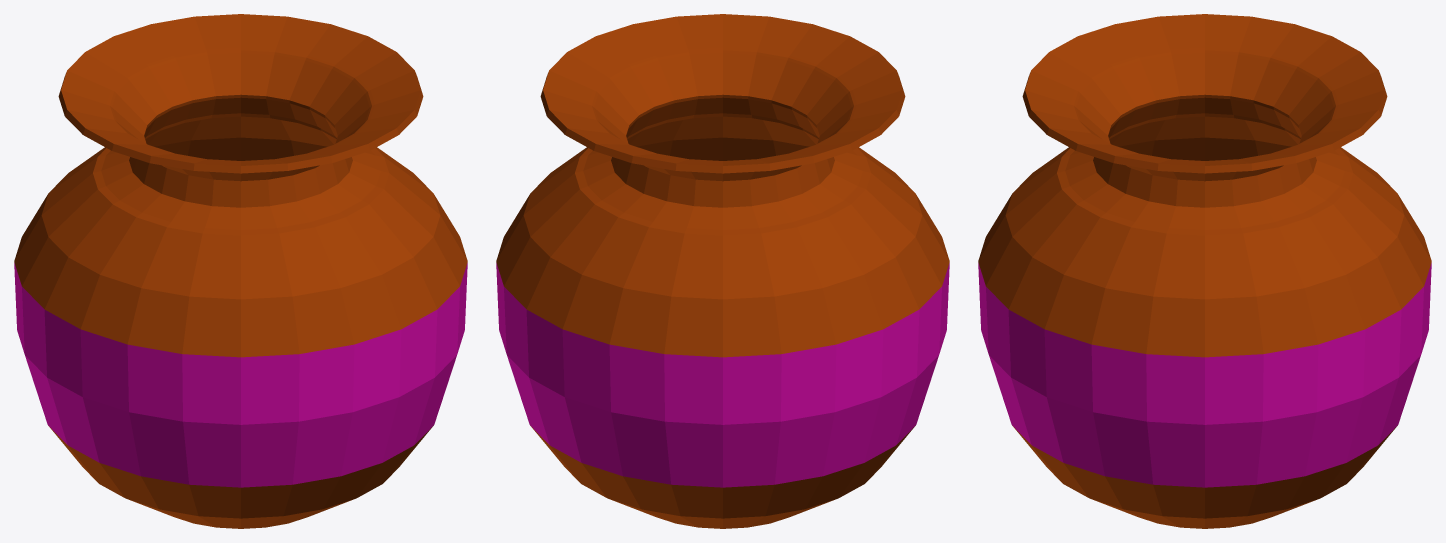
File: jarron_purple.fbx
The picture shows the model from 3 angles, left to right: view 1: azimuth 30°, elevation 25°; view 2: azimuth 150°, elevation 25°; view 3: azimuth 270°, elevation 25°; orthographic projection.
Parts seen in each view (by area): view 1: Jarron.001; view 2: Jarron.001; view 3: Jarron.001.
Part boxes in pixels (box(x1,y1,x2,y2)): Jarron.001: box(14, 14, 467, 528); Jarron.001: box(496, 14, 949, 528); Jarron.001: box(978, 14, 1431, 528).
Bounding box in the file's own units: 74.35 × 75.09 × 74.35.
